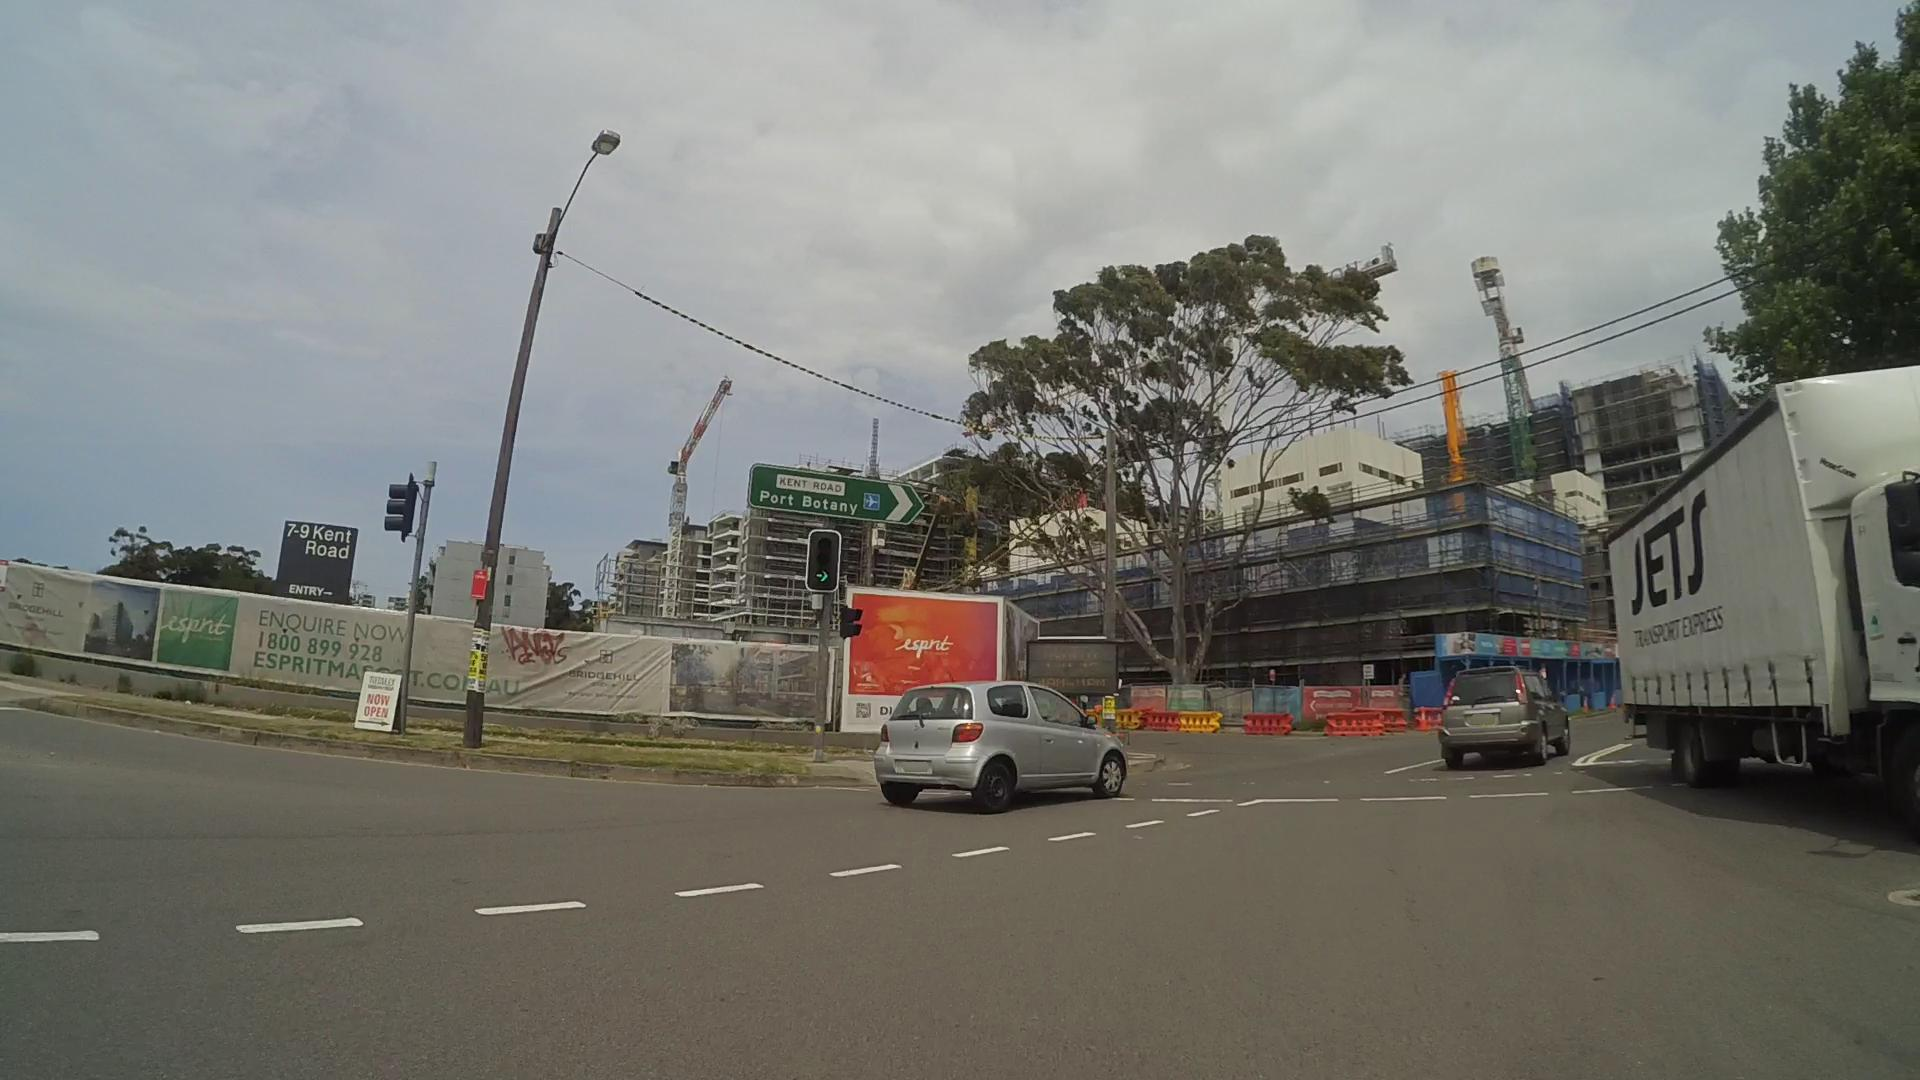vinyl banner: (1, 555, 840, 744), (1425, 611, 1617, 667)
